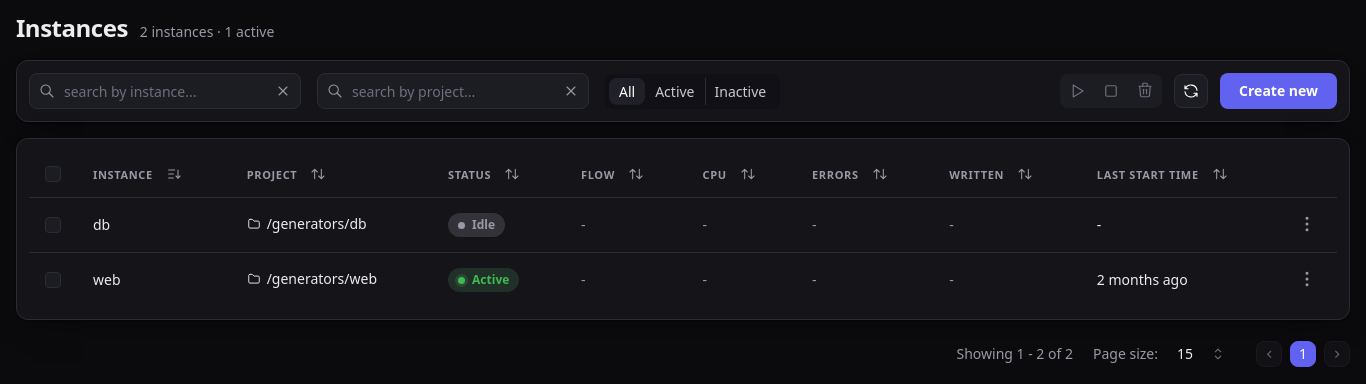
Scenario: InstancesPage › filters the list down to the active instances
The width and height of the screenshot is (1366, 384).
Click the radio button labelled "Active" at (675,91), box [655, 82, 694, 100]
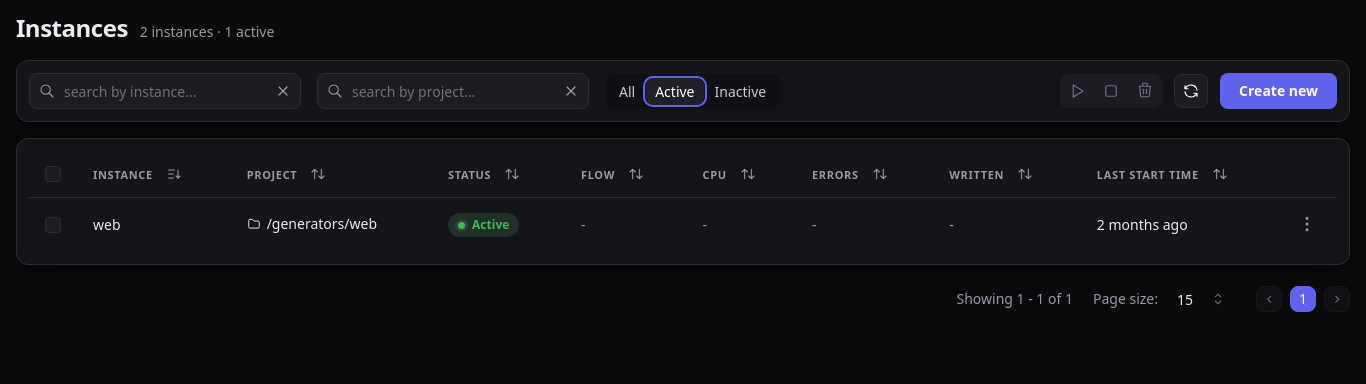
Expected: the row "web /generators/web Active - - - - 2 months ago" is shown, [29, 198, 1337, 252]
Expected: the link "db" is gone
